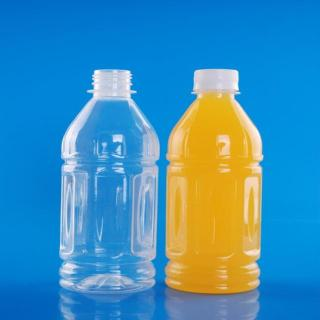Plastic-bottle: (48, 66, 162, 305), (163, 67, 272, 301)
